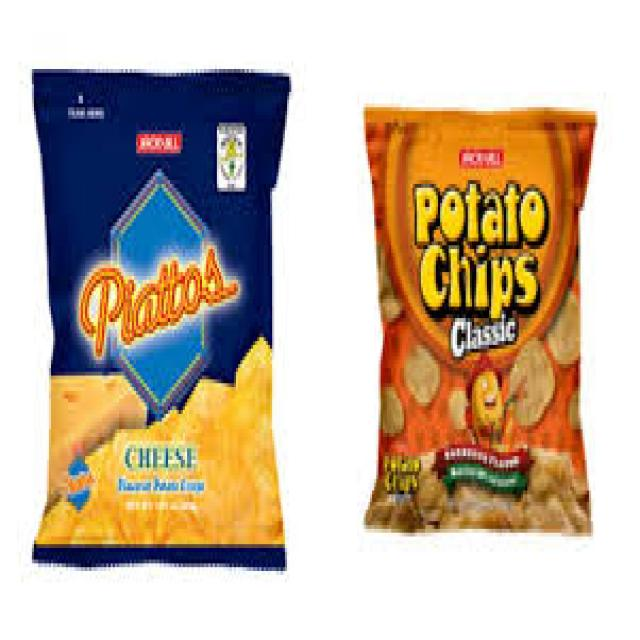junkfood wrapper: (34, 70, 289, 567)
